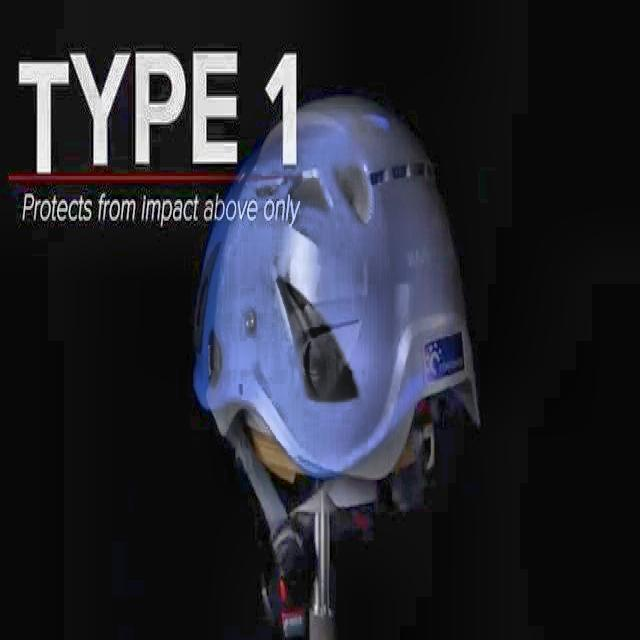helmet: (189, 94, 483, 478)
